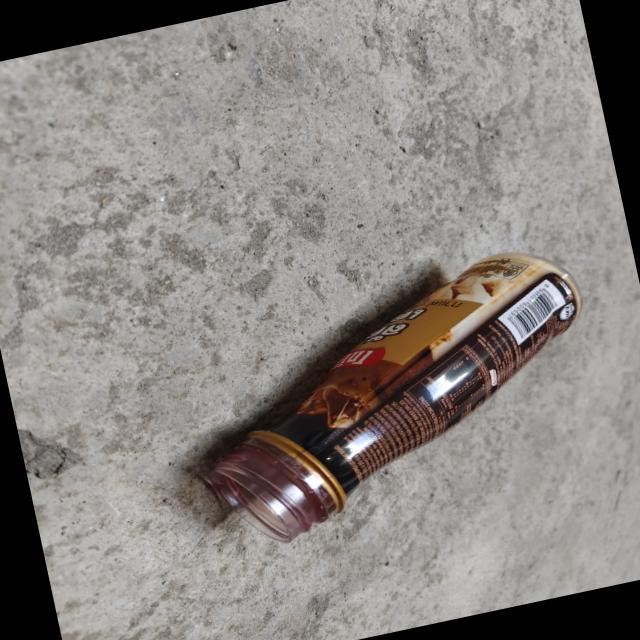Bottle: (207, 253, 579, 542)
